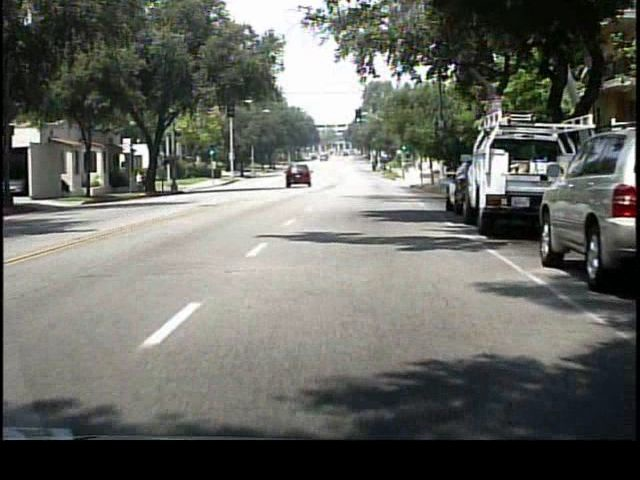person: (138, 169, 146, 194)
